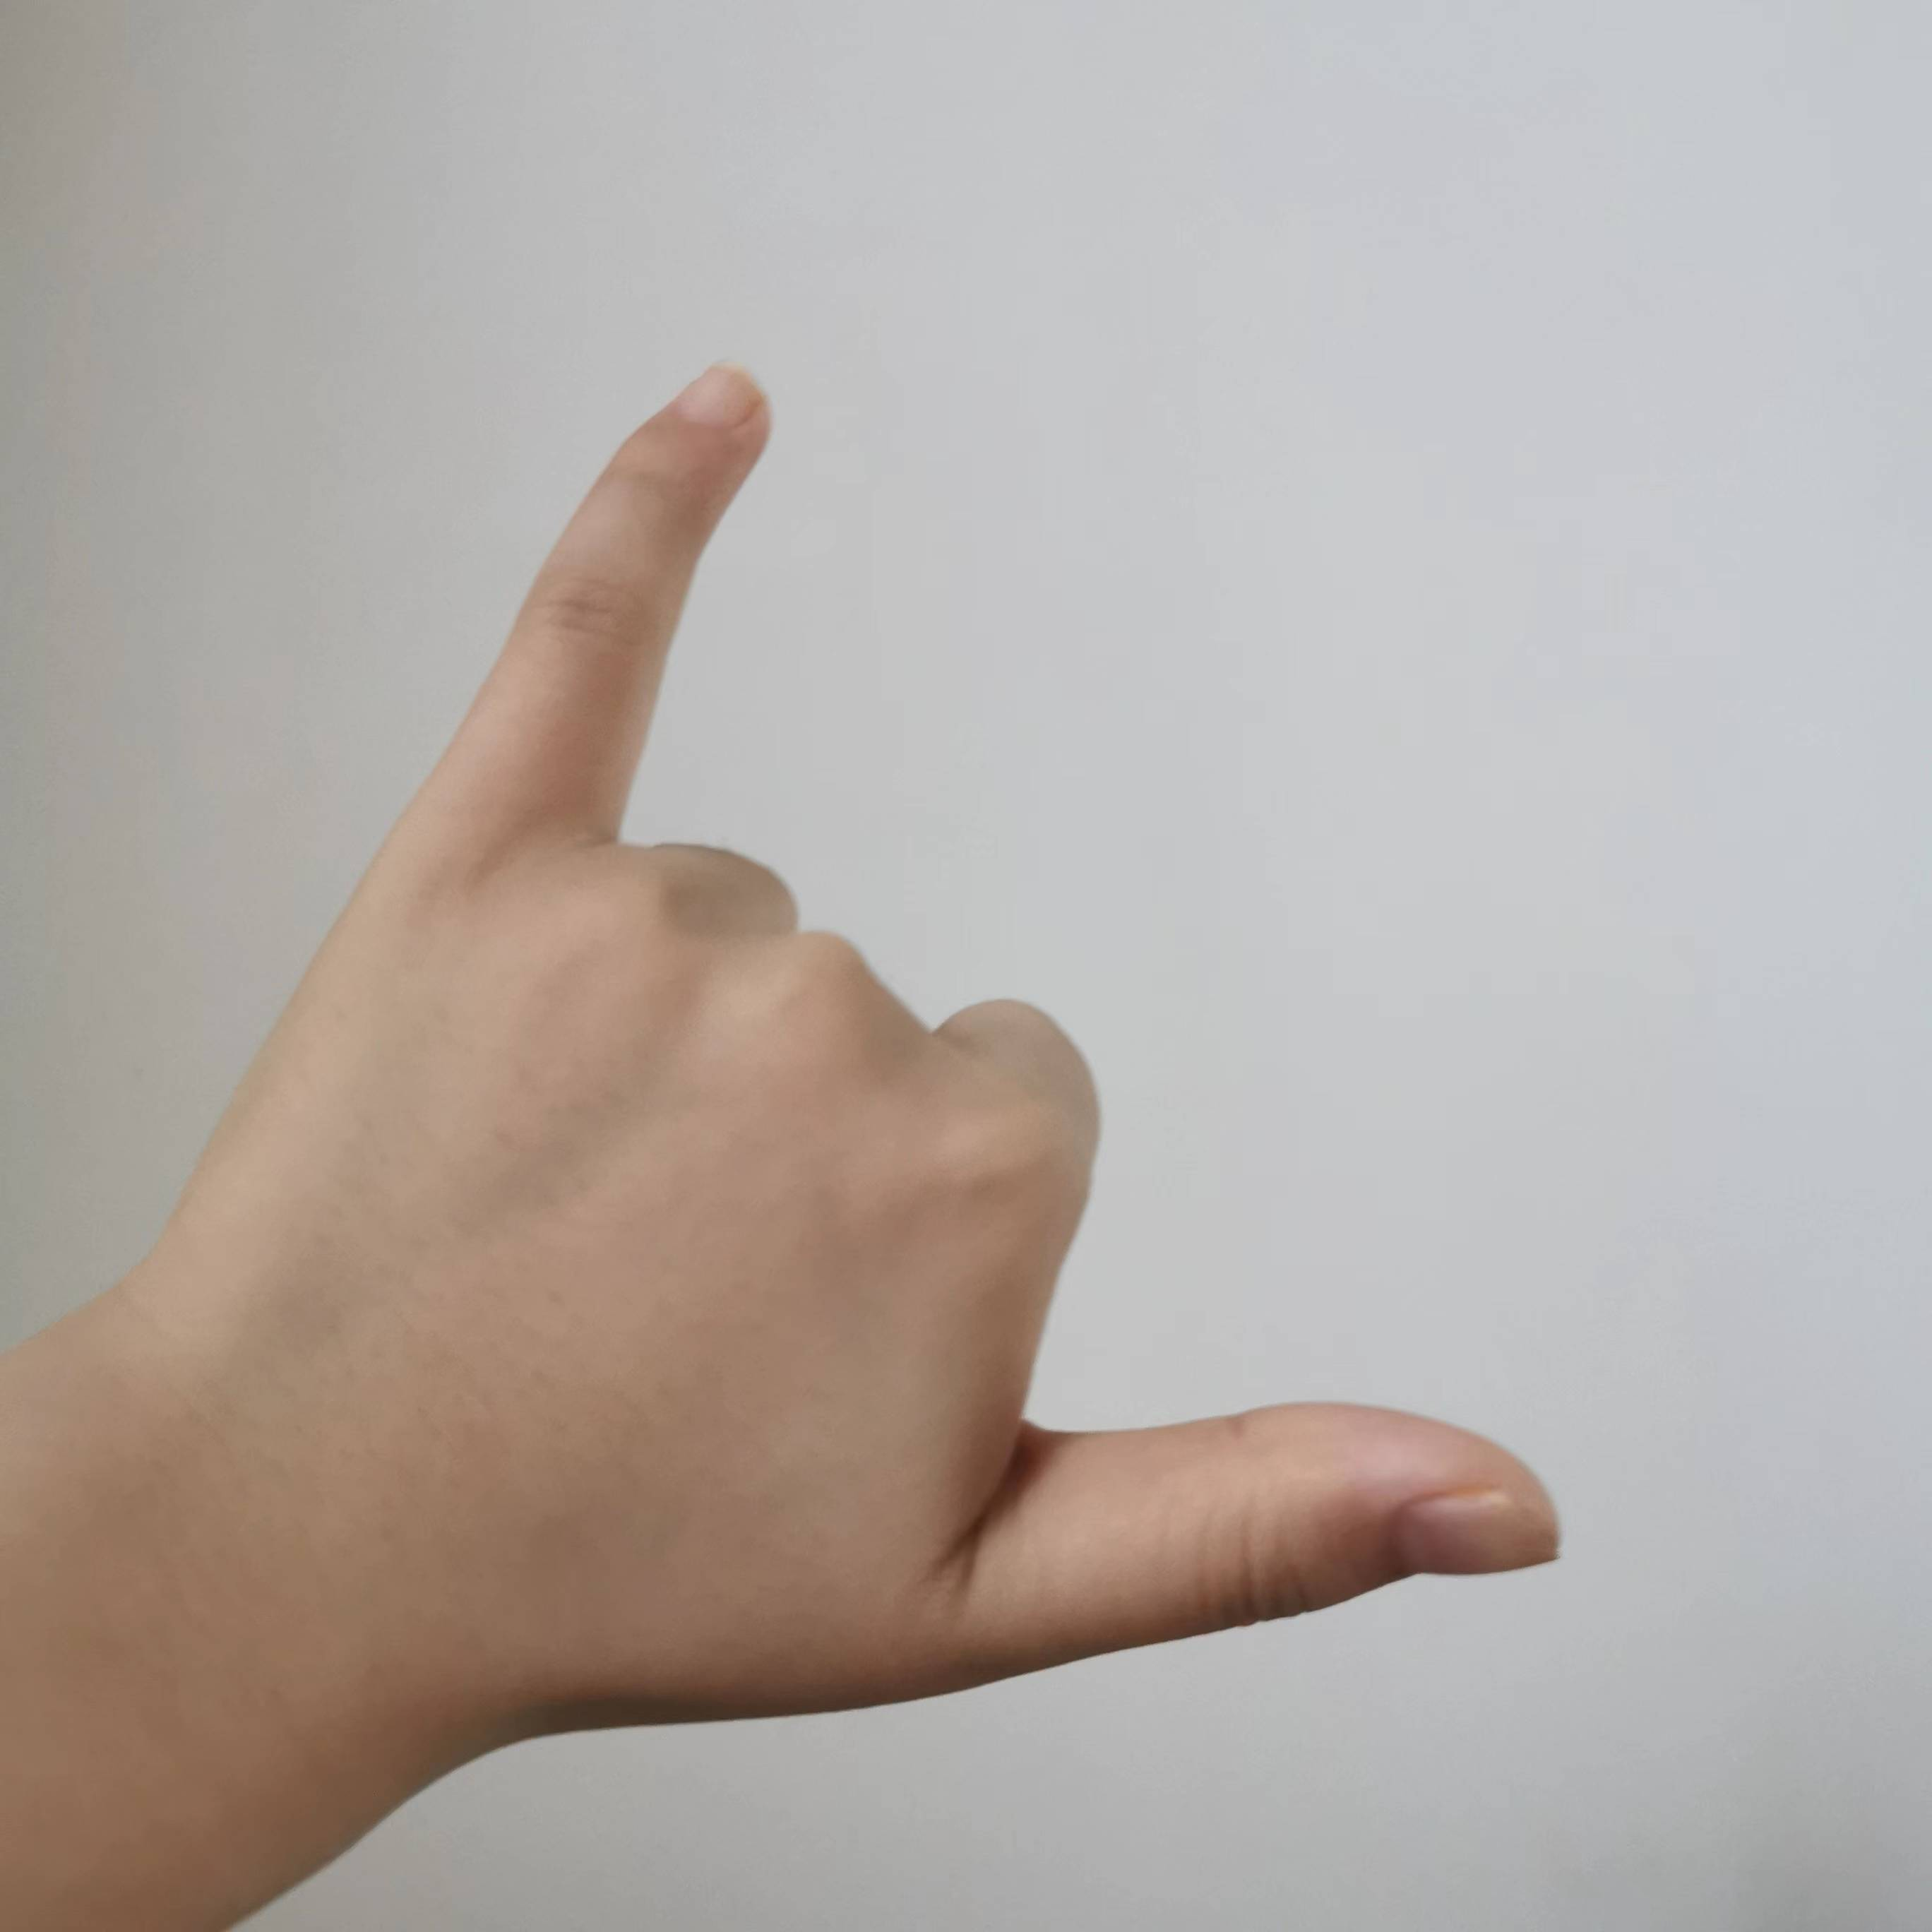clockwise: (179, 349, 1606, 1767)
